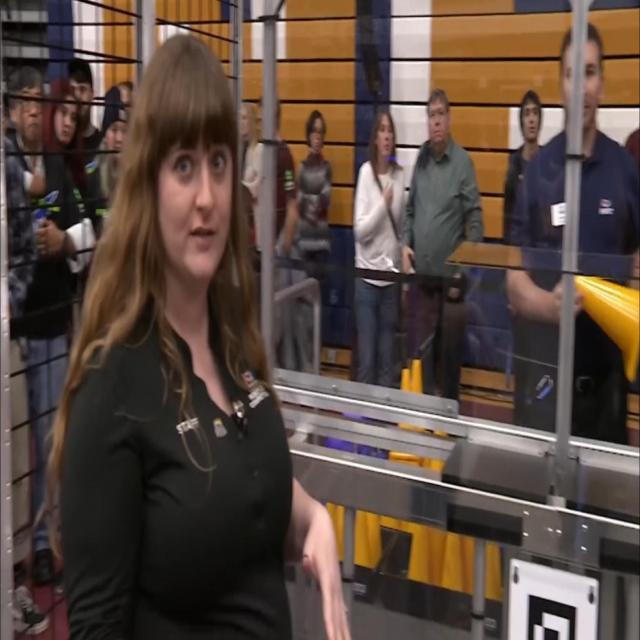frc_cone: (569, 272, 640, 382), (441, 518, 465, 592), (409, 514, 430, 580), (362, 499, 382, 562), (462, 522, 478, 590), (482, 542, 500, 602), (354, 501, 369, 569), (429, 522, 446, 581), (389, 445, 420, 474), (323, 500, 335, 560), (334, 491, 344, 557), (409, 354, 424, 393), (381, 505, 397, 530), (397, 370, 410, 394)
frc_cube: (324, 437, 354, 464), (358, 444, 380, 464)
